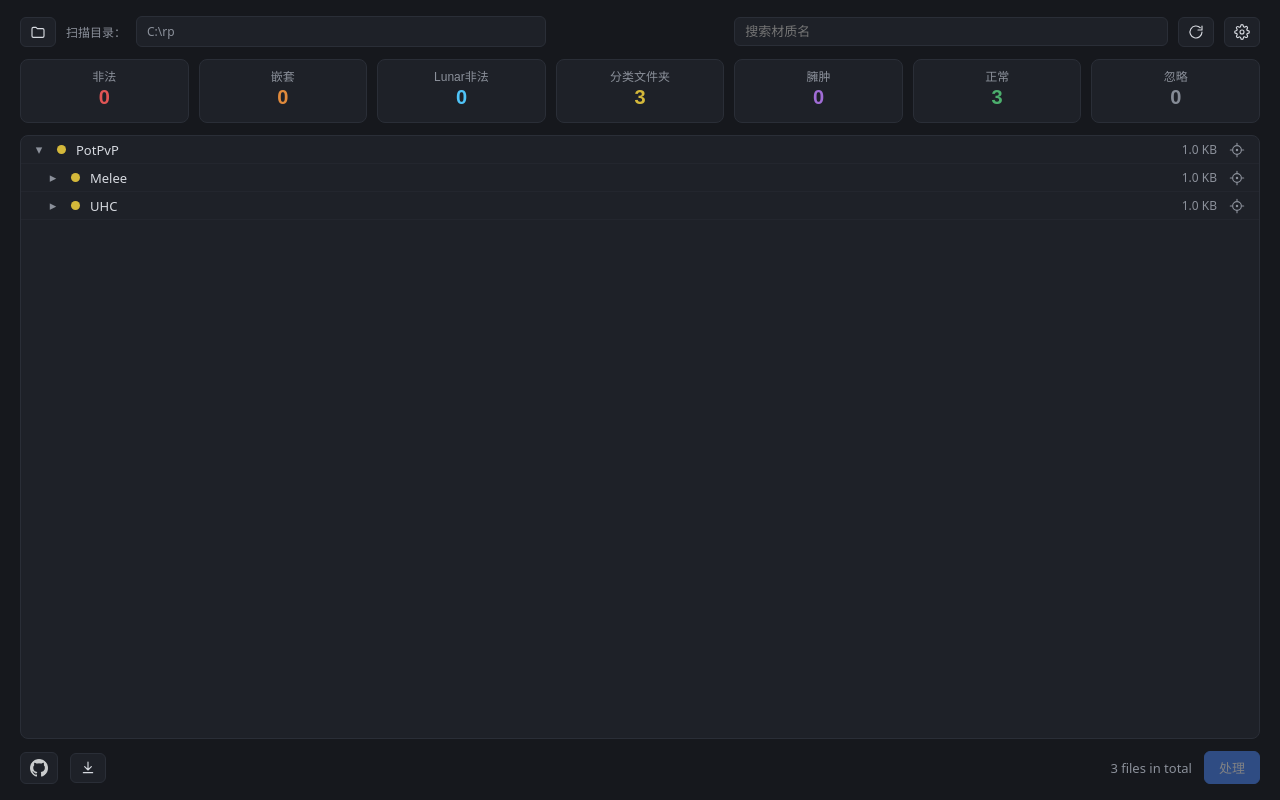
Test: tree search keeps ancestors for a pack and the full subtree for a folder
Type "Needle" into the field labelled "搜索材质名" at coordinates (951, 32), box [734,17,1168,46]
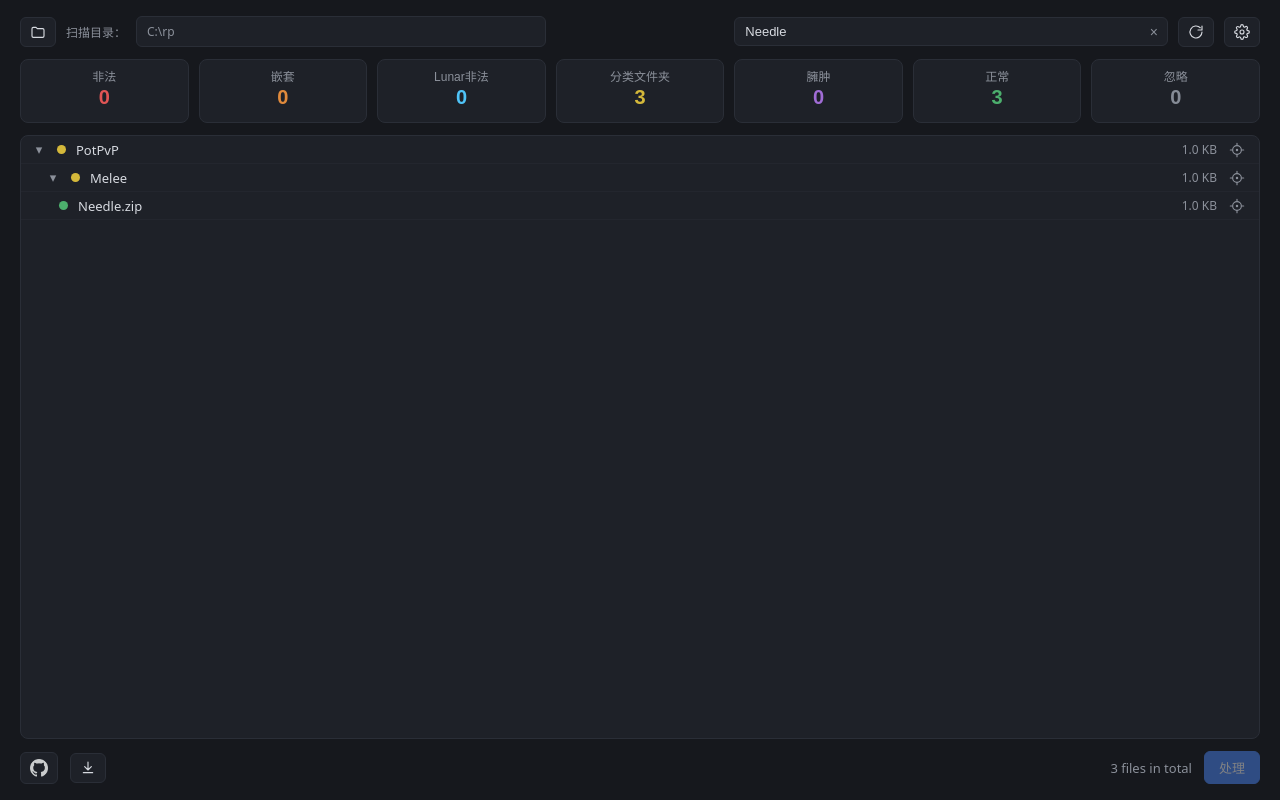
Expected: the text "PotPvP" is shown, [76,140,119,158]
Now the text "Needle.zip" is shown, box [78,196,142,214]
Now the text "UHC" is gone
Replace the text in the field named "搜索材质名" with "Melee" at coordinates (951, 32), box [734,17,1168,46]
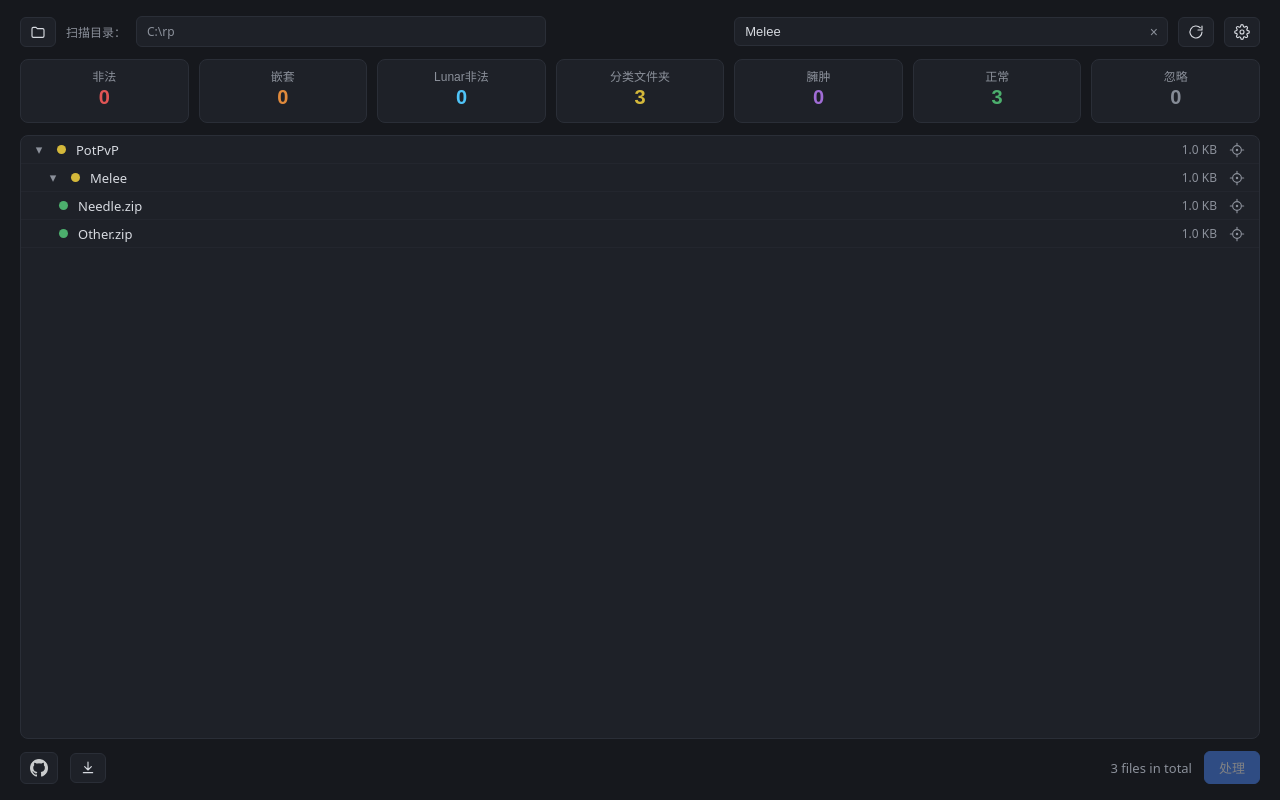
Expected: the text "PotPvP" is shown, [76,140,119,158]
Now the text "Needle.zip" is shown, box [78,196,142,214]
Now the text "Other.zip" is shown, box [78,224,132,242]
